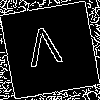V: (24, 25, 65, 77)
